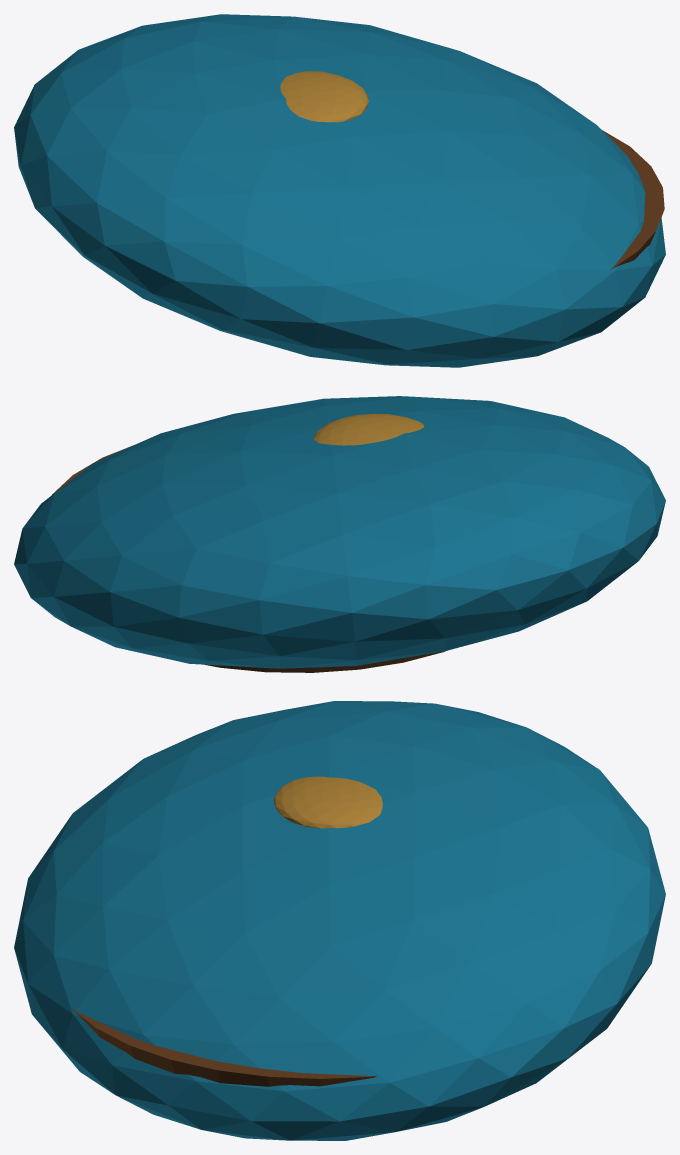
File: Beret.glb
3 views of the same model, one above another, from view 1: azimuth 30°, elevation 25°; view 2: azimuth 150°, elevation 25°; view 3: azimuth 270°, elevation 25° (orthographic). The views are drawn at different scales.
Visible parts, largest first — view 1: geometry_0; view 2: geometry_0; view 3: geometry_0.
Part boxes in pixels (box(x1,y1,x2,y2)): geometry_0: box(14, 14, 665, 367); geometry_0: box(14, 396, 665, 672); geometry_0: box(14, 701, 665, 1140).
Size of the model in its own units: 0.7084 by 0.276 by 0.6766.
